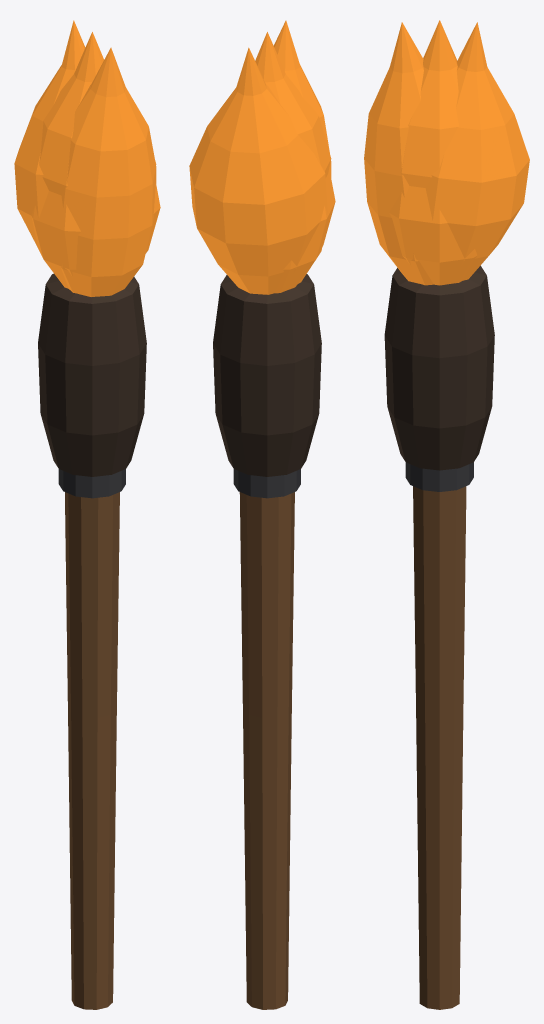
Rendered from pochoden.glb.
3 renders of one model, left to right at view 1: azimuth 30°, elevation 25°; view 2: azimuth 150°, elevation 25°; view 3: azimuth 270°, elevation 25°, orthographic.
Visible parts, largest first — view 1: pochoden, plamen_01, plamen_03, plamen_02, plamen_00; view 2: pochoden, plamen_03, plamen_02, plamen_01, plamen_00; view 3: pochoden, plamen_03, plamen_01, plamen_02, plamen_00.
Boxes of the visible parts, left/top/right/bottom form: pochoden: left=38, top=273, right=146, bottom=1009; plamen_01: left=60, top=47, right=156, bottom=296; plamen_03: left=14, top=20, right=85, bottom=247; plamen_02: left=39, top=32, right=156, bottom=195; plamen_00: left=31, top=184, right=160, bottom=288; pochoden: left=213, top=274, right=321, bottom=1009; plamen_03: left=189, top=47, right=327, bottom=294; plamen_02: left=255, top=32, right=331, bottom=177; plamen_01: left=273, top=20, right=331, bottom=283; plamen_00: left=275, top=174, right=335, bottom=293; pochoden: left=384, top=265, right=494, bottom=1009; plamen_03: left=425, top=22, right=529, bottom=280; plamen_01: left=364, top=22, right=433, bottom=285; plamen_02: left=400, top=20, right=458, bottom=187; plamen_00: left=389, top=186, right=477, bottom=285.
Bounding box in the file's own units: 0.1057 × 0.8298 × 0.1264.
Materials: 2 (2 with a texture image).
